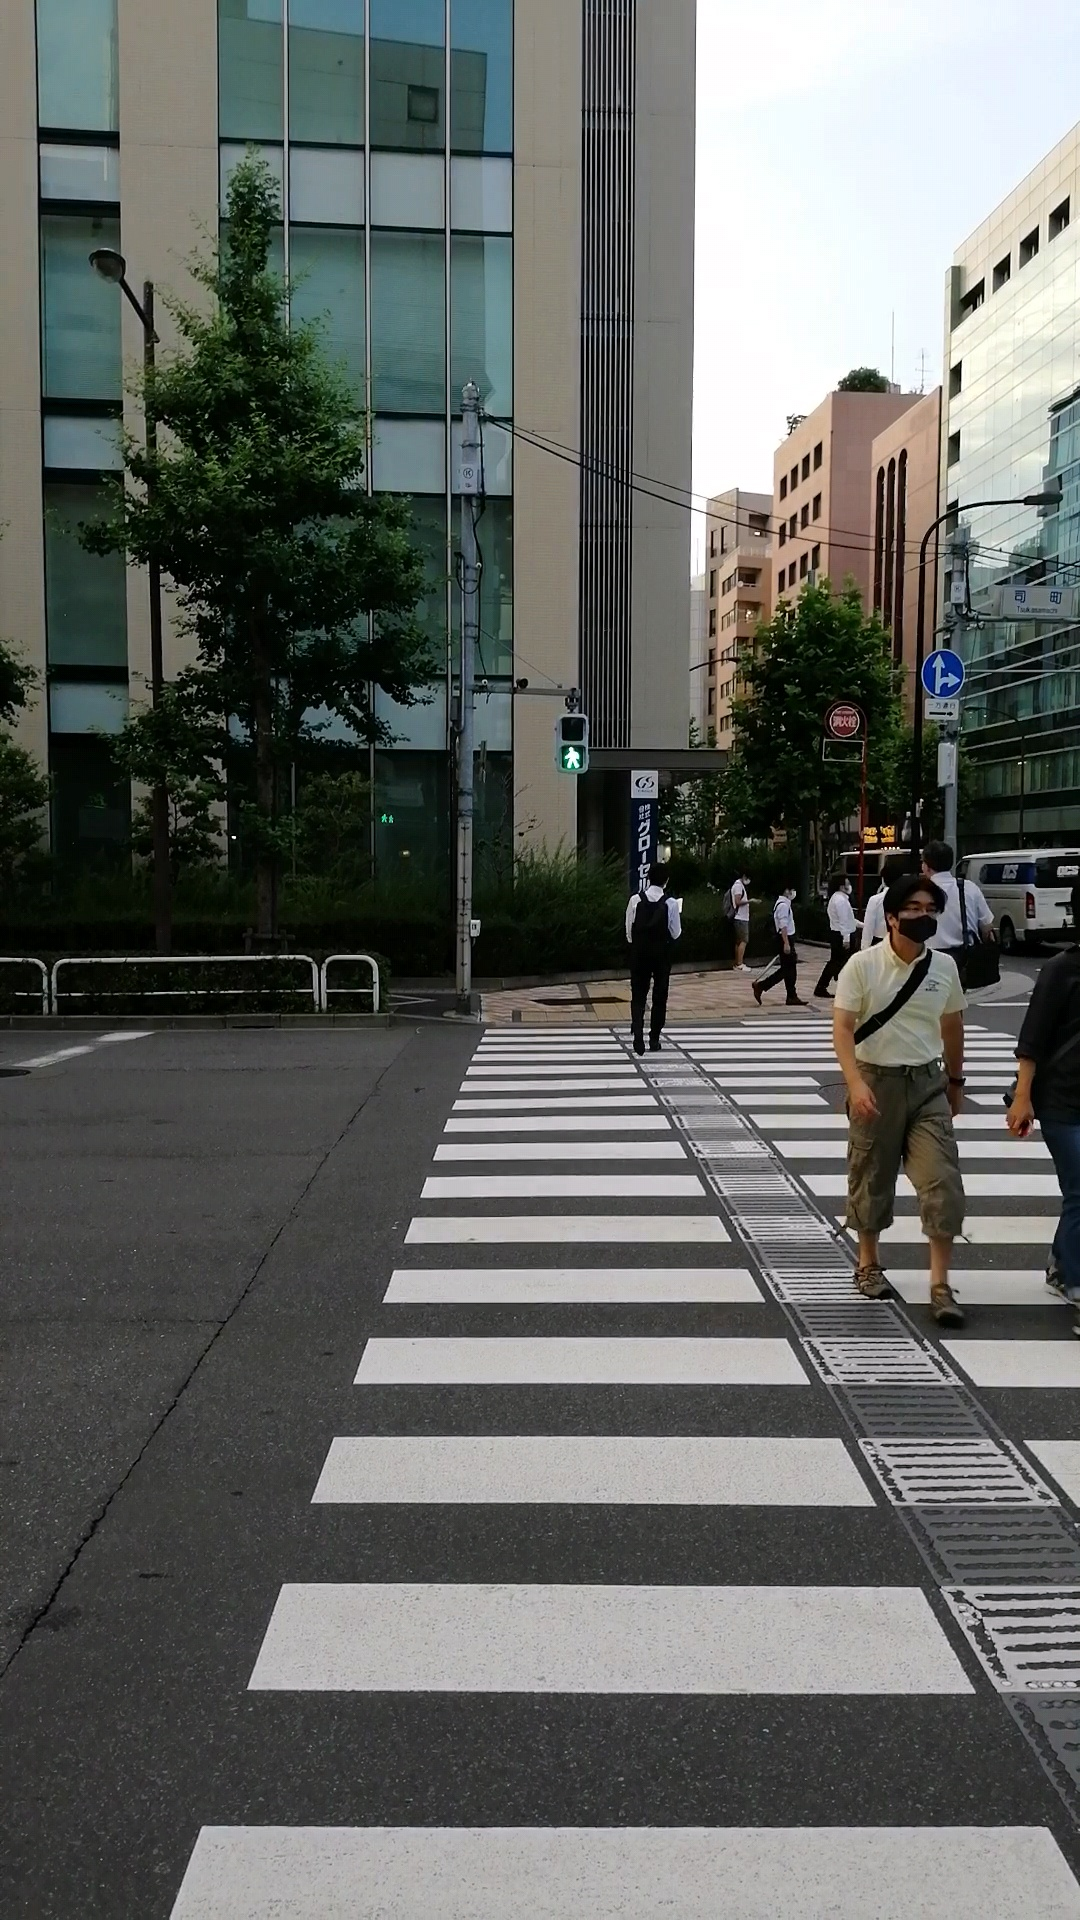green: (555, 712, 589, 771)
